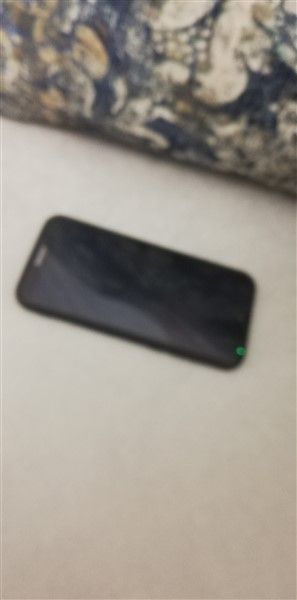telefon: (12, 208, 260, 372)
